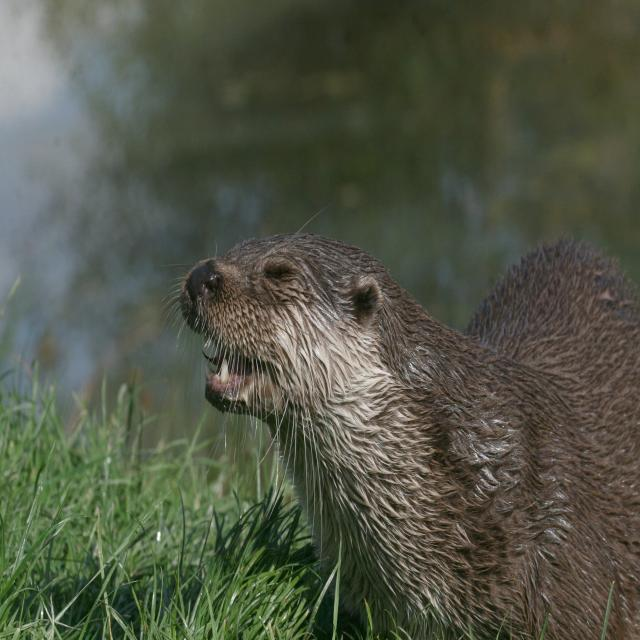otter: (180, 229, 640, 640)
